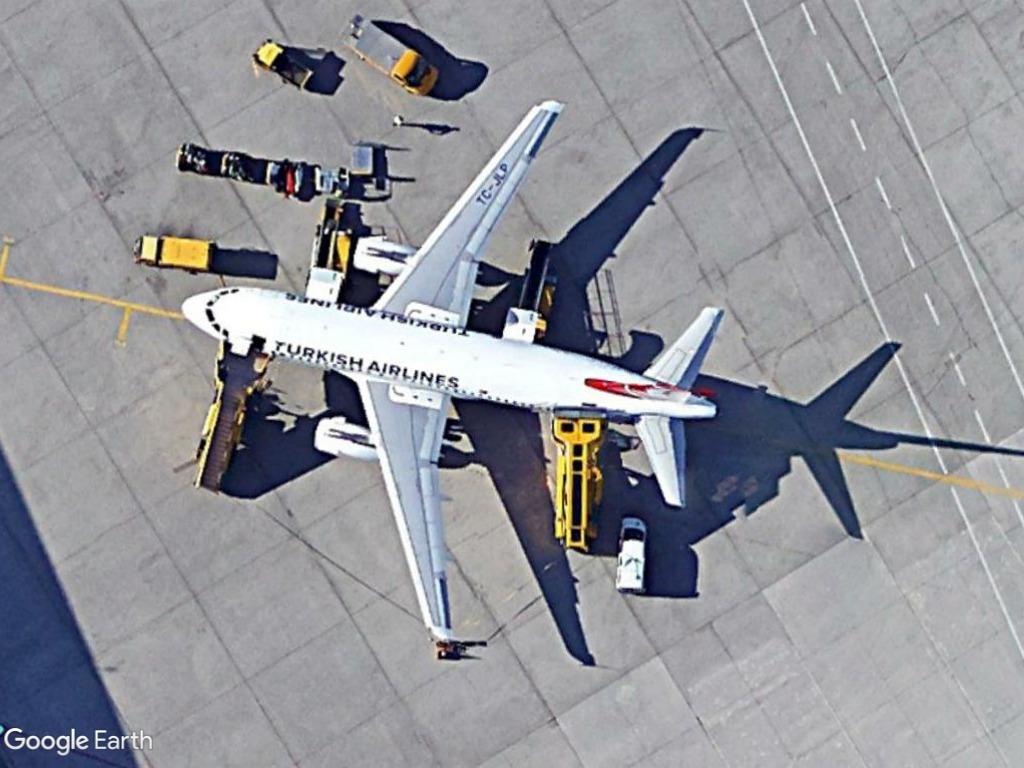airliner: (174, 96, 728, 645)
others: (341, 15, 441, 98)
truck: (134, 230, 220, 273)
van: (612, 514, 649, 596)
